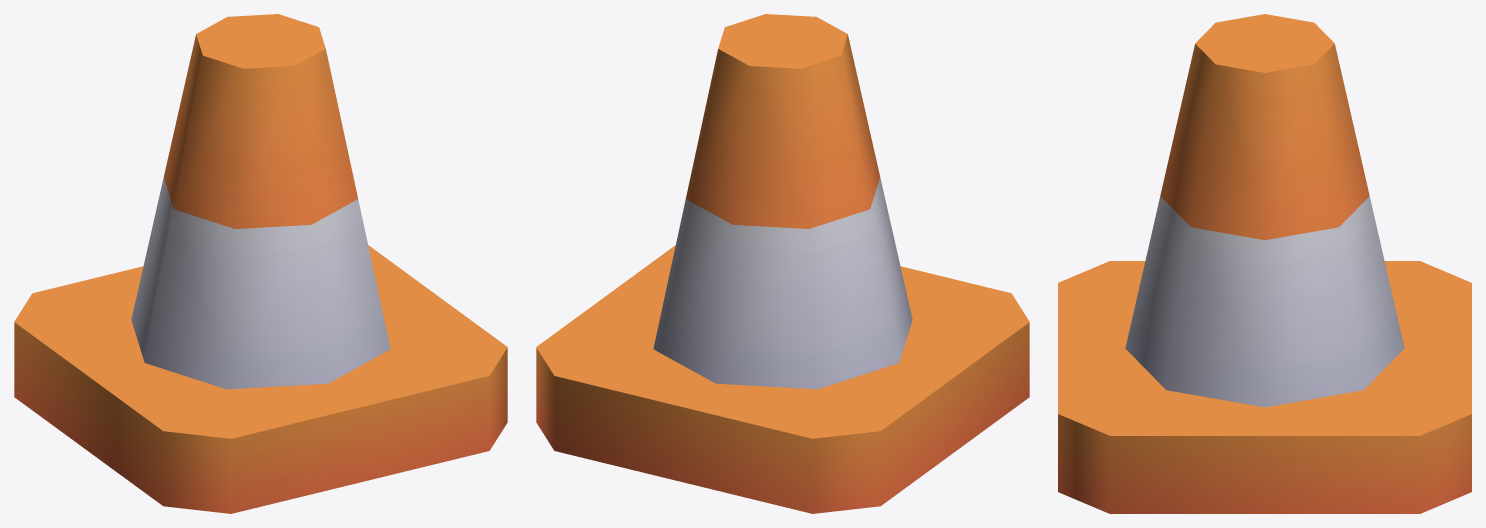
3 renders of one model, left to right at view 1: azimuth 30°, elevation 25°; view 2: azimuth 150°, elevation 25°; view 3: azimuth 270°, elevation 25°, orthographic. The views are drawn at different scales.
Visible parts, largest first — view 1: cone; view 2: cone; view 3: cone.
Part boxes in pixels (bbox=[...]): cone: bbox=[14, 14, 507, 513]; cone: bbox=[536, 14, 1029, 513]; cone: bbox=[1058, 14, 1471, 513].
Size of the model in its own units: 0.3 by 0.3065 by 0.3.
1 material, 1 textured.
